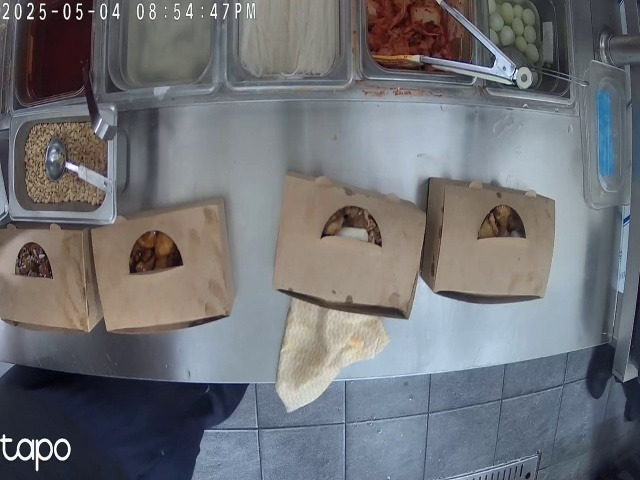closed delivery box: (281, 175, 412, 309), (100, 203, 220, 325), (437, 181, 555, 304), (0, 232, 87, 323)
